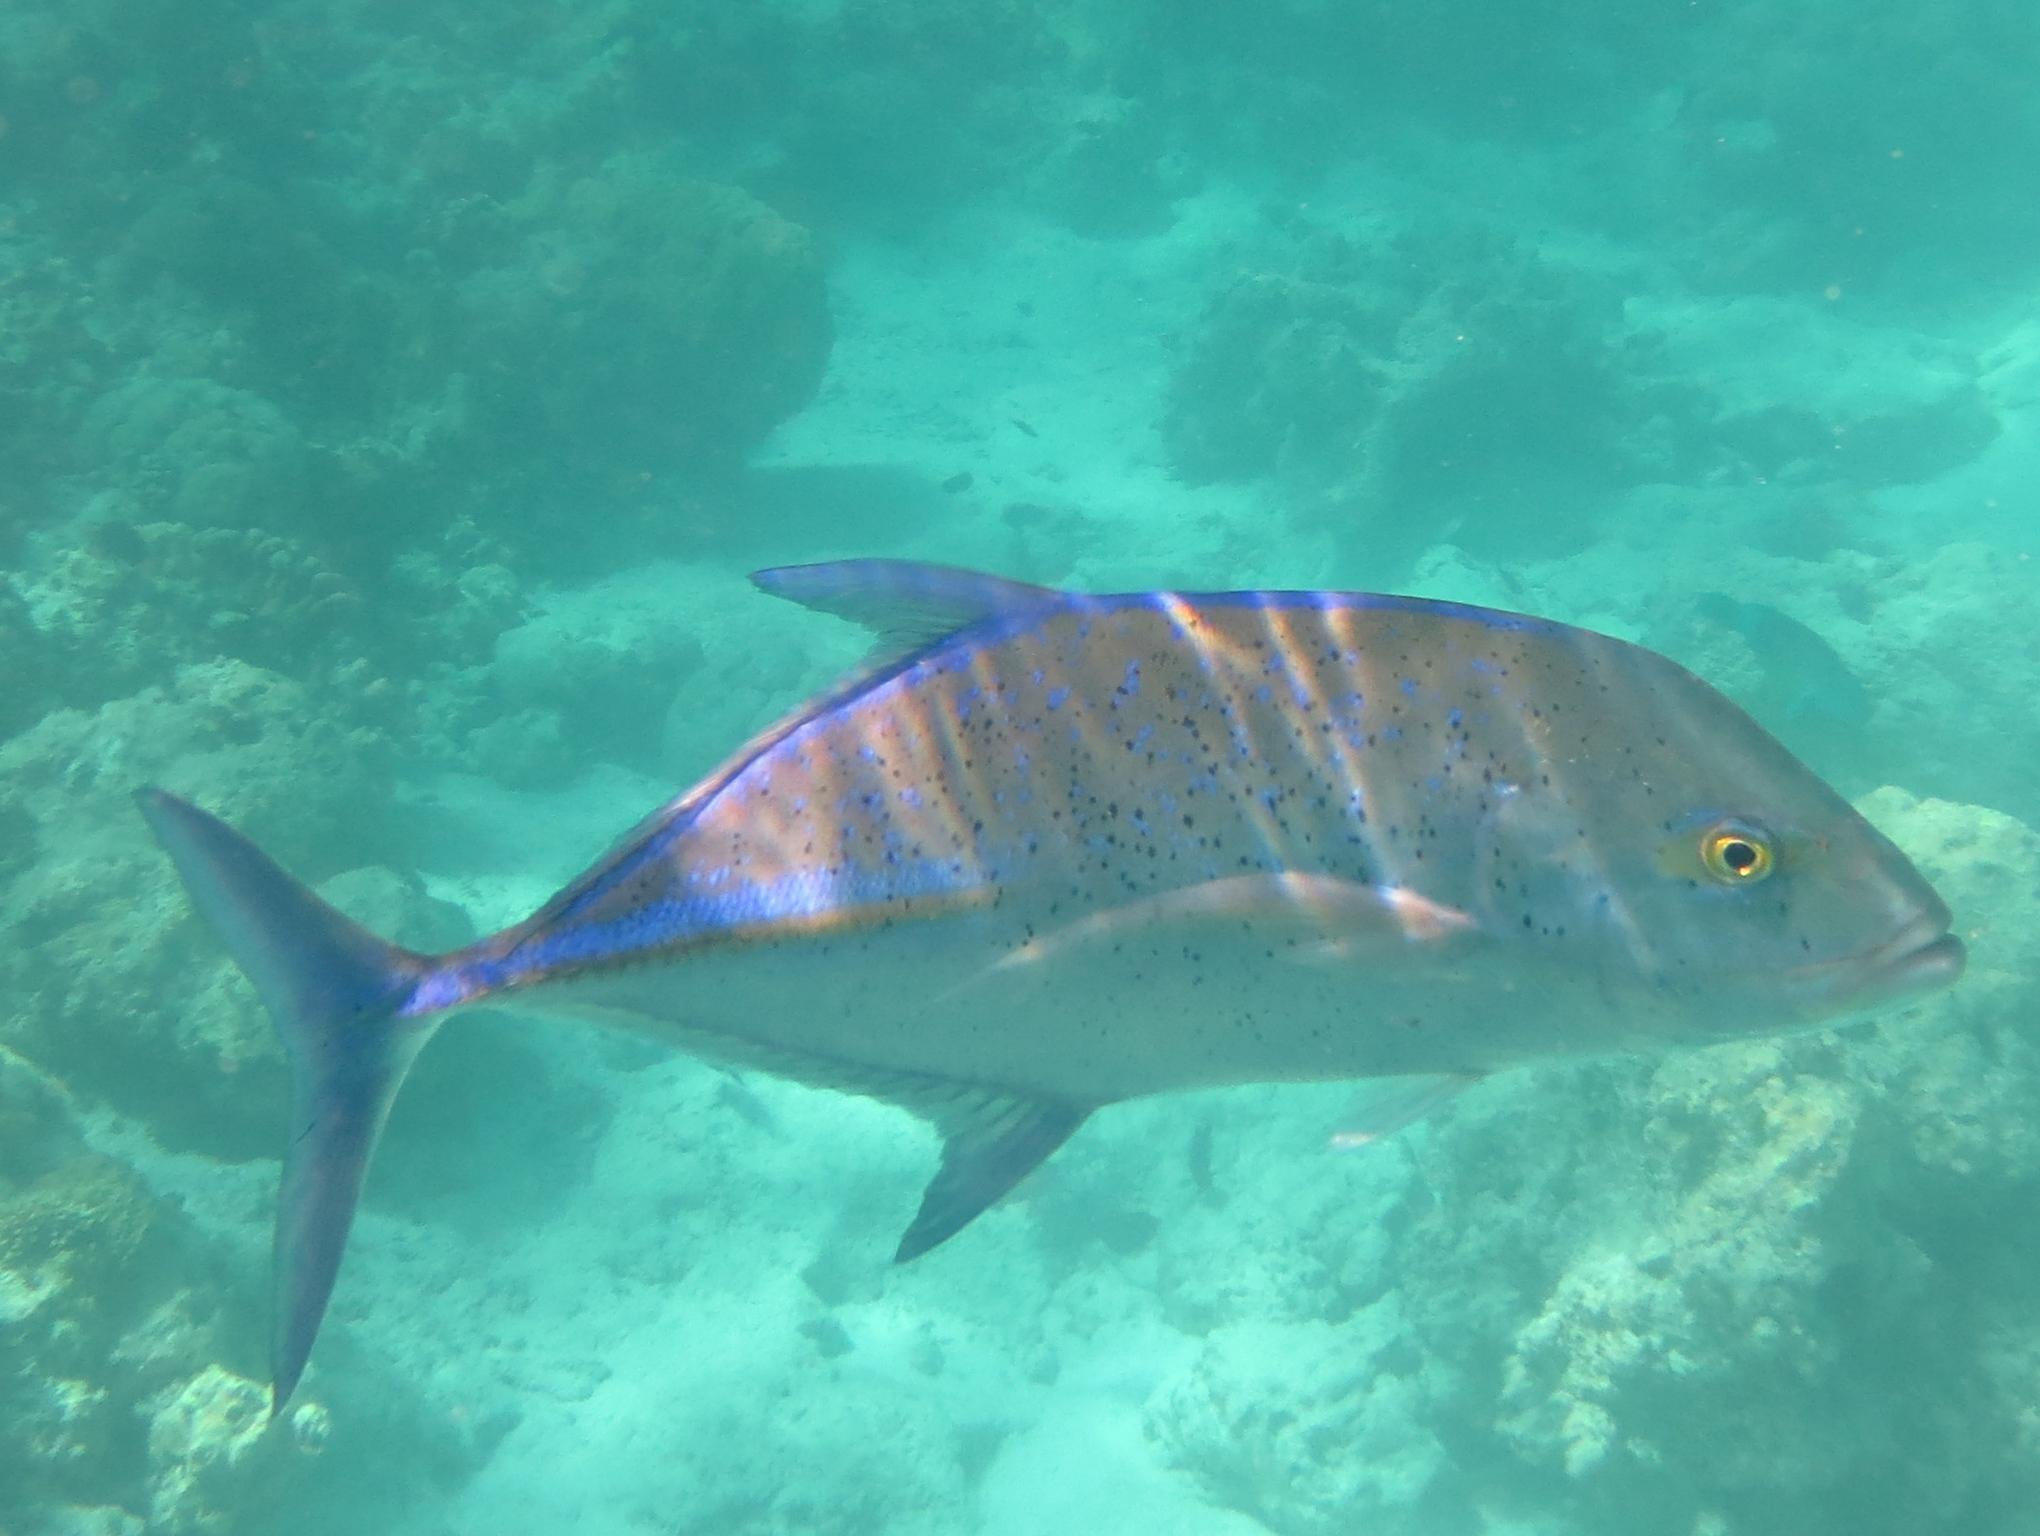Fish: (131, 541, 1985, 1436)
